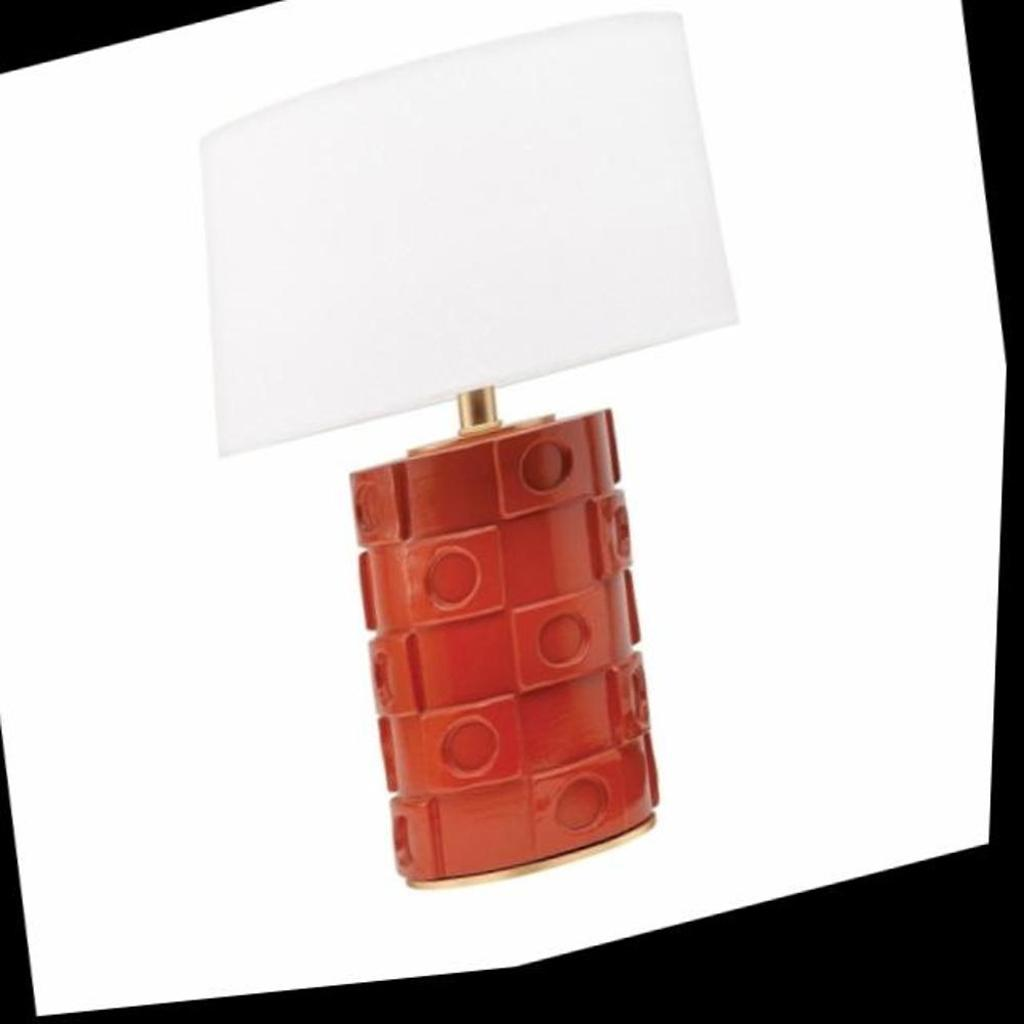shelf: (123, 0, 884, 1012)
